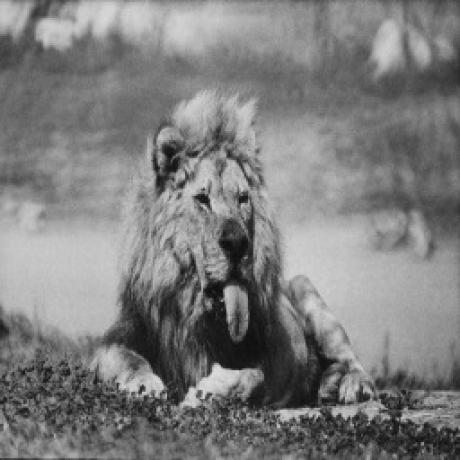Lion: (91, 85, 379, 410)
